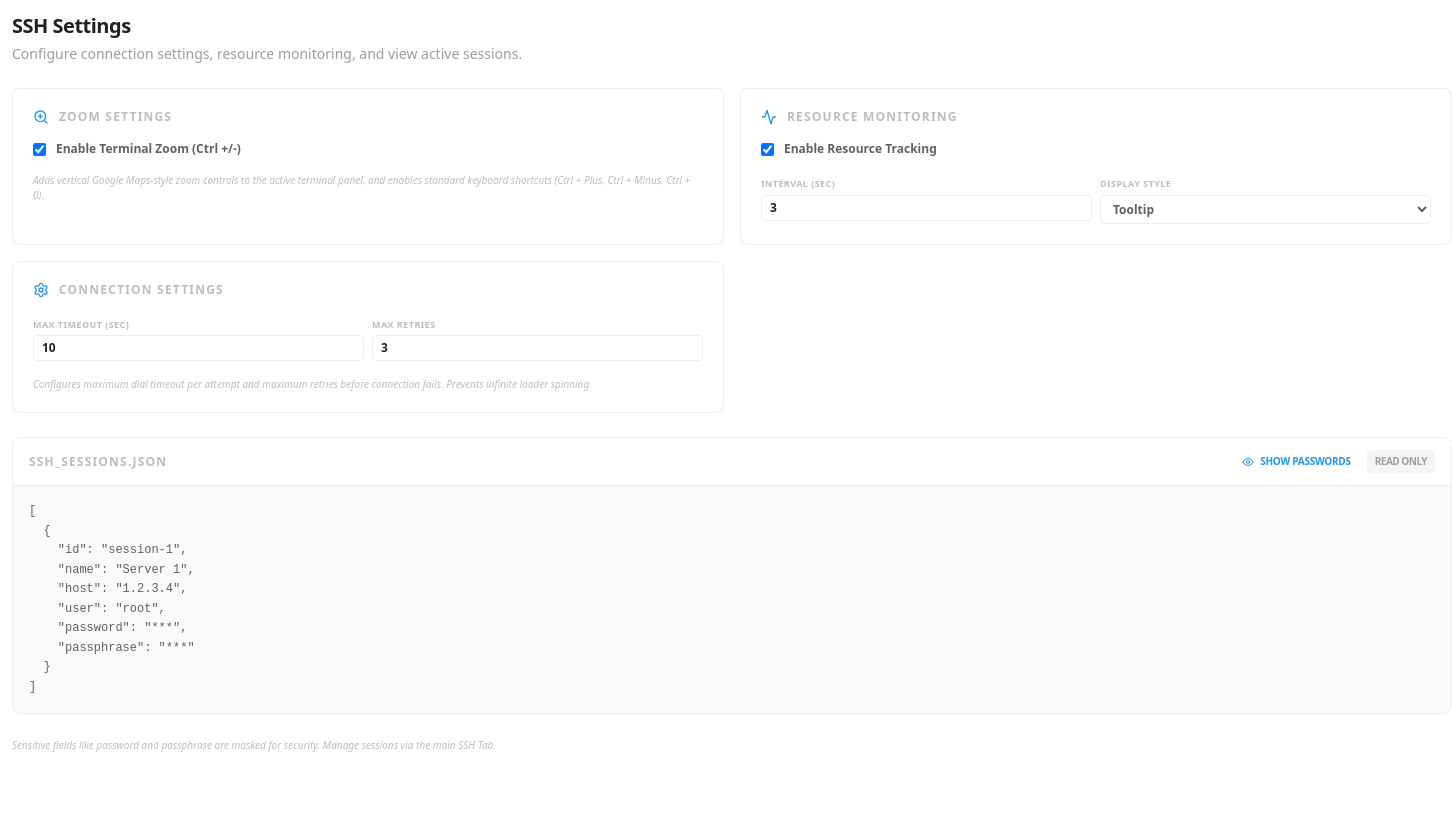
Test: SSHManagementCategory Component › unmasks passwords when toggle button is clicked
Step 1. Click the button "Show Passwords" → [1296, 462], box [1234,450,1359,473]
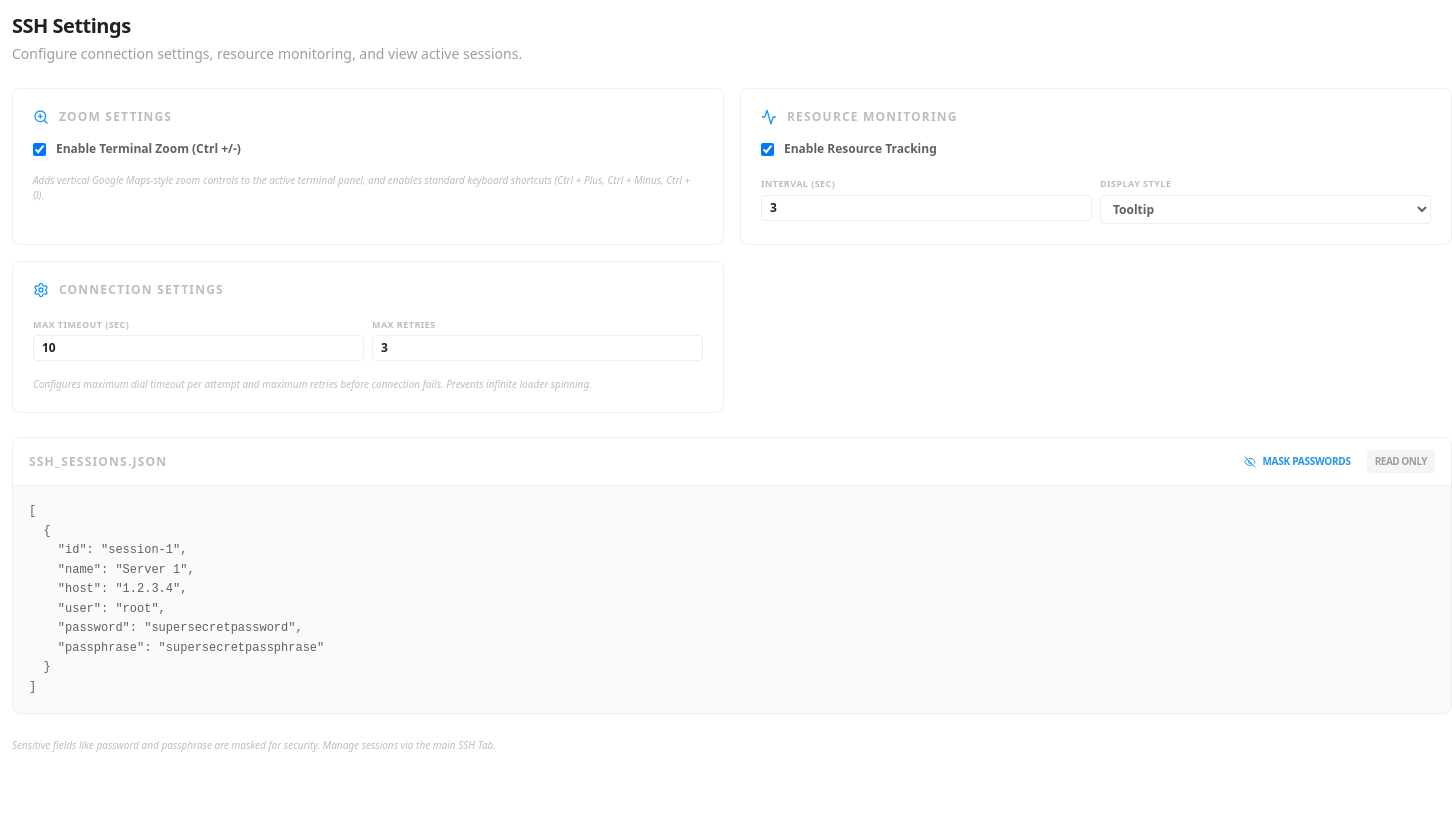
Now the button "Mask Passwords" is shown, box [1236,450,1359,473]
